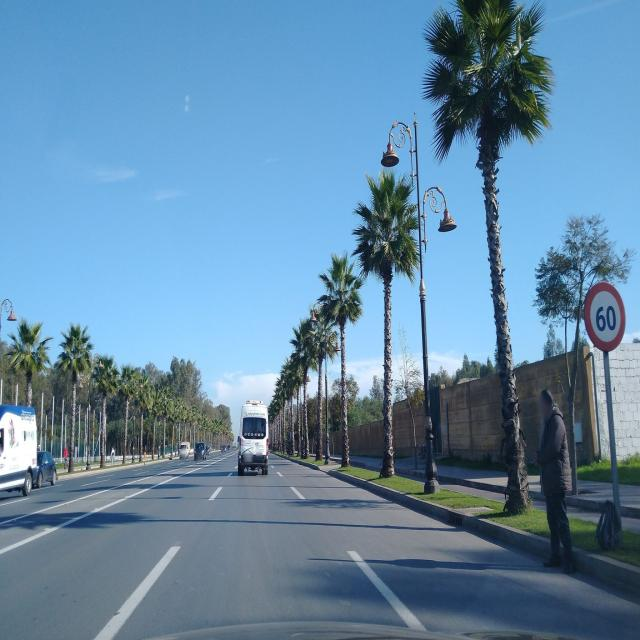car: (0, 403, 38, 503), (237, 402, 269, 476), (35, 449, 57, 488), (193, 441, 208, 460), (179, 442, 191, 460)
